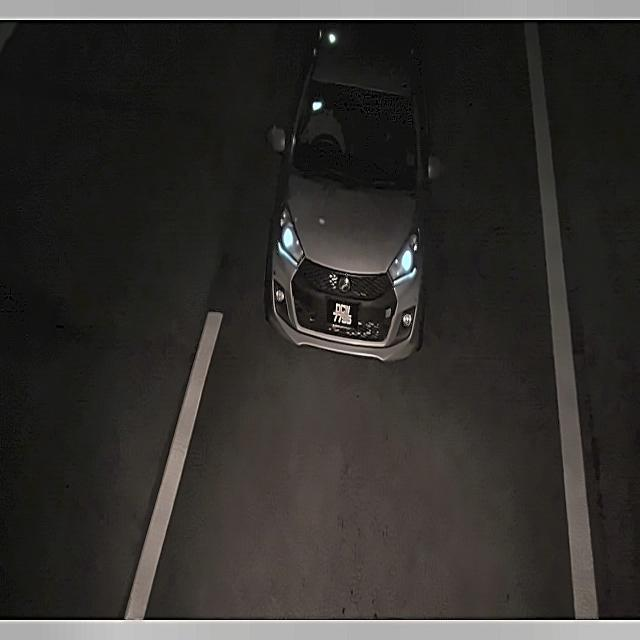car: (326, 289, 359, 341)
